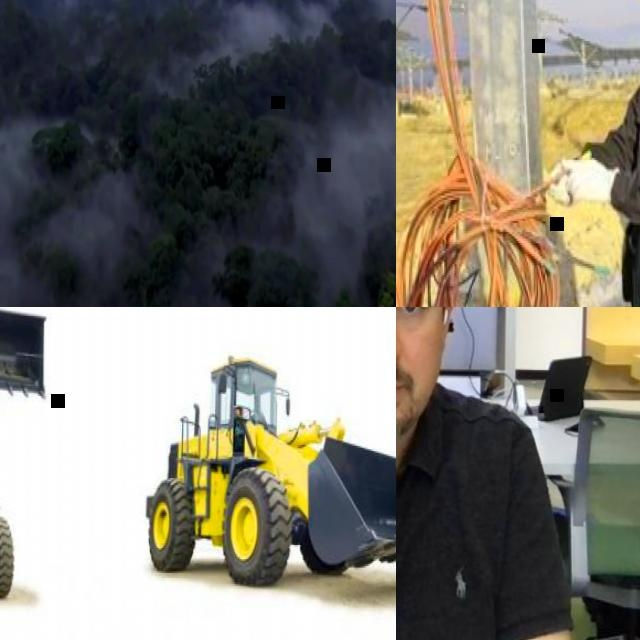NO-Mask: (396, 364, 428, 437)
NO-Safety Vest: (396, 415, 510, 640)
Person: (396, 307, 582, 640), (545, 0, 640, 307)
machinery: (141, 307, 396, 588), (0, 307, 55, 640)
